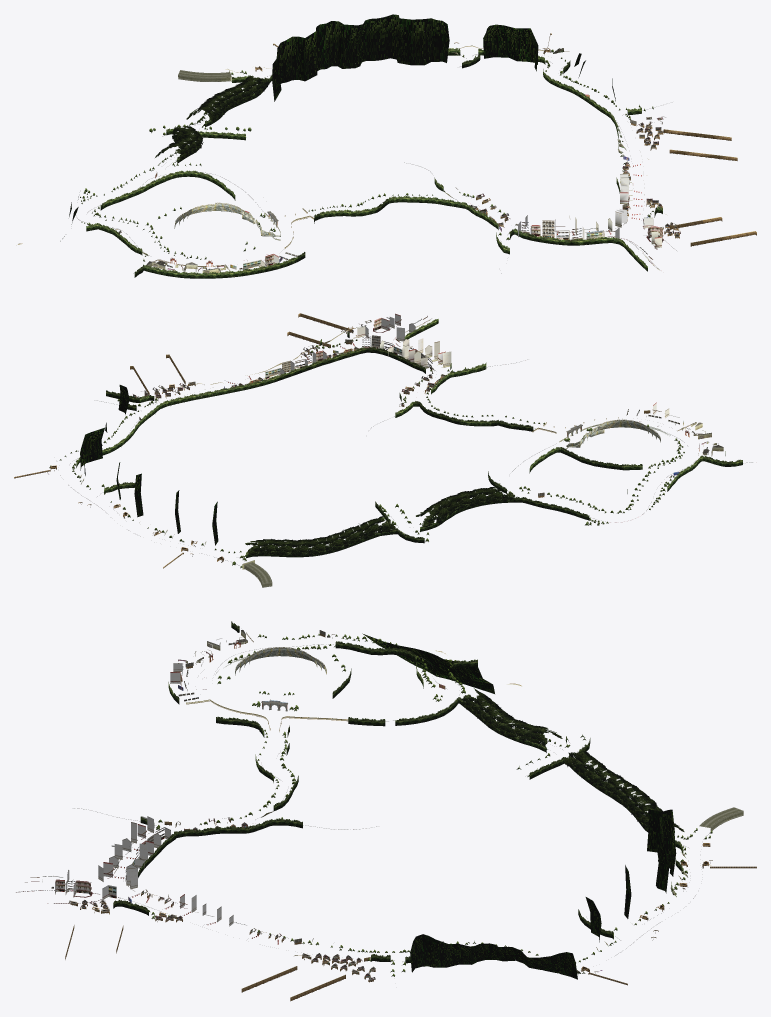
The model's file is track-AS_C3_V1.glb.
The picture shows the model from 3 angles, top to bottom: view 1: azimuth 30°, elevation 25°; view 2: azimuth 150°, elevation 25°; view 3: azimuth 270°, elevation 25°; orthographic projection. The views are drawn at different scales.
Parts seen in each view (by area): view 1: AS_C3_V1; view 2: AS_C3_V1; view 3: AS_C3_V1.
Part boxes in pixels (x1,y1,x2,y2): AS_C3_V1: [16, 14, 756, 278]; AS_C3_V1: [14, 313, 752, 587]; AS_C3_V1: [16, 621, 756, 1001].
Size of the model in its own units: 2132 by 198 by 1894.
86 materials, 85 textured.
